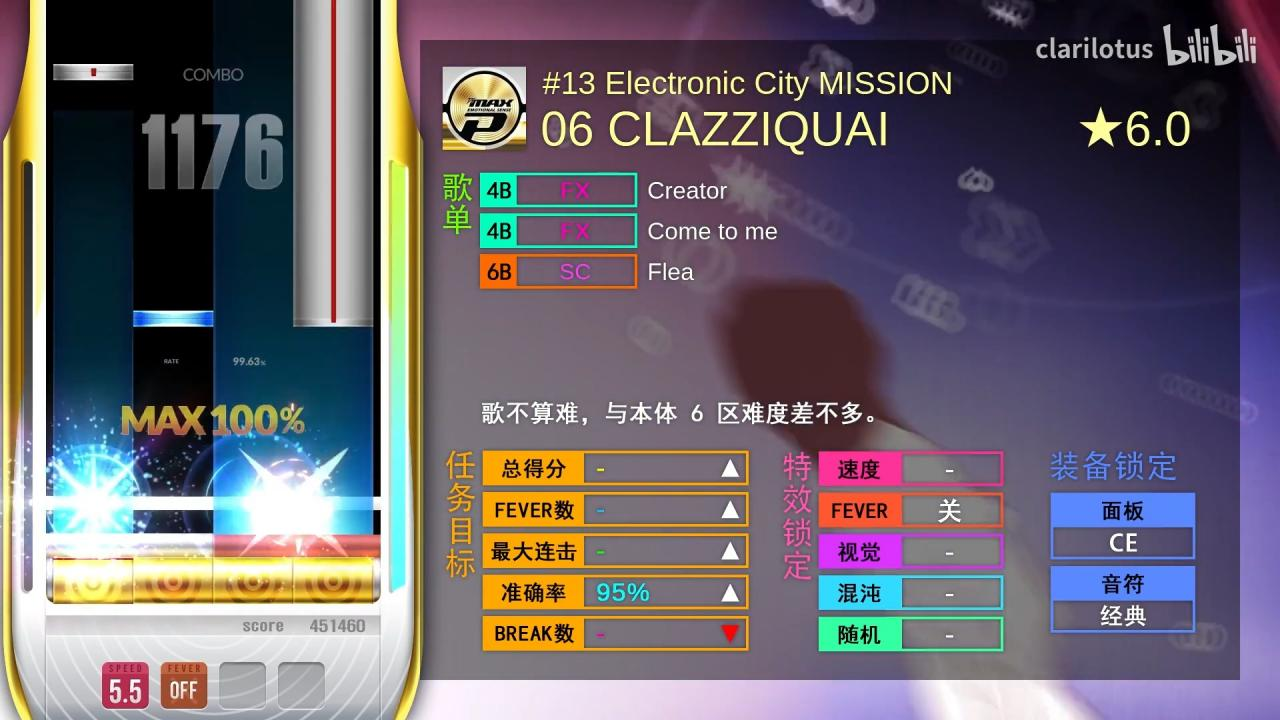hold-start: (293, 308, 373, 326)
note: (133, 310, 214, 328), (53, 63, 134, 80)
